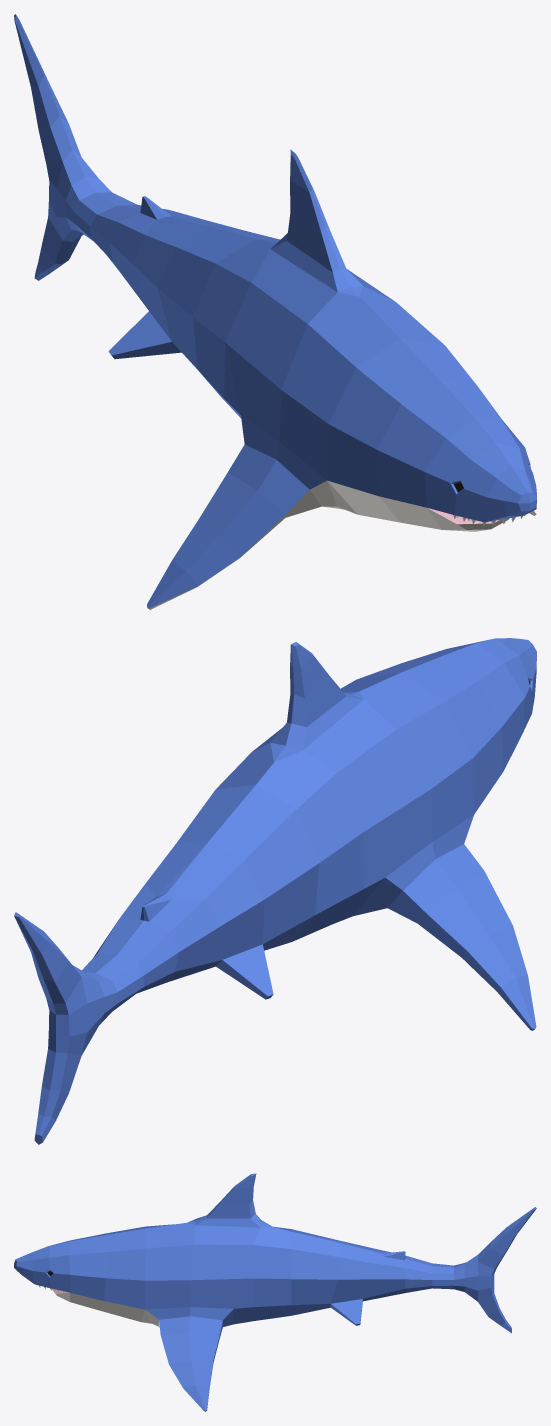
File: Origami_Shark.fbx
3 renders of one model, top to bottom at view 1: azimuth 30°, elevation 25°; view 2: azimuth 150°, elevation 25°; view 3: azimuth 270°, elevation 25°, orthographic. The views are drawn at different scales.
Parts seen in each view (by area): view 1: Cube.003; view 2: Cube.003; view 3: Cube.003.
Boxes of the visible parts, box(x1,y1,x2,y2) form: Cube.003: box(14, 14, 536, 609); Cube.003: box(14, 638, 536, 1144); Cube.003: box(14, 1173, 536, 1411).
Size of the model in its own units: 655 by 608 by 1512.
